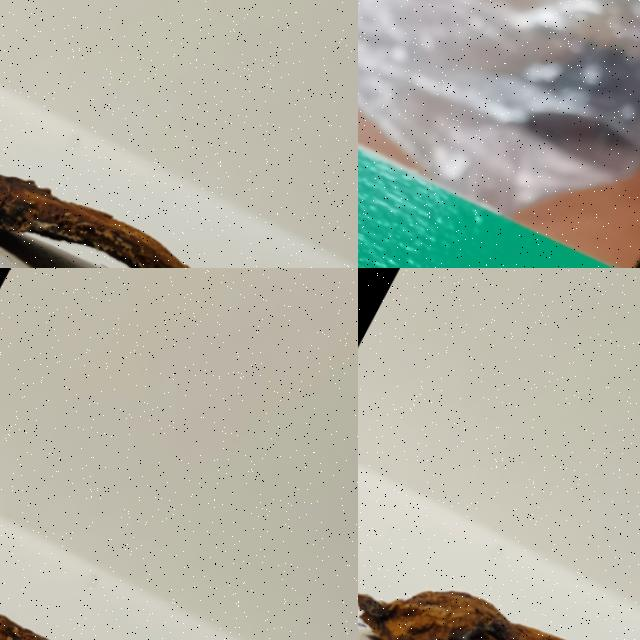Flat_cocoabeans: (0, 95, 337, 267), (358, 483, 639, 639), (0, 518, 357, 639)
